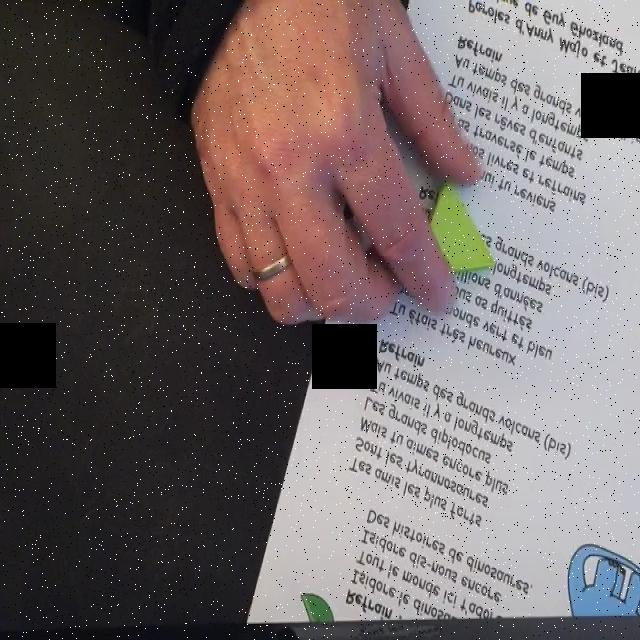triangle: (408, 180, 495, 284)
